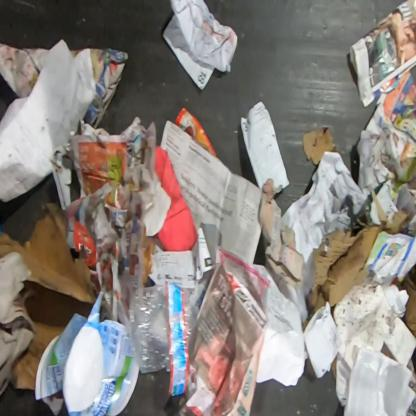cardboard: (0, 201, 97, 391), (302, 188, 411, 334)
rigid_plastic: (34, 289, 140, 415), (126, 282, 198, 397)
